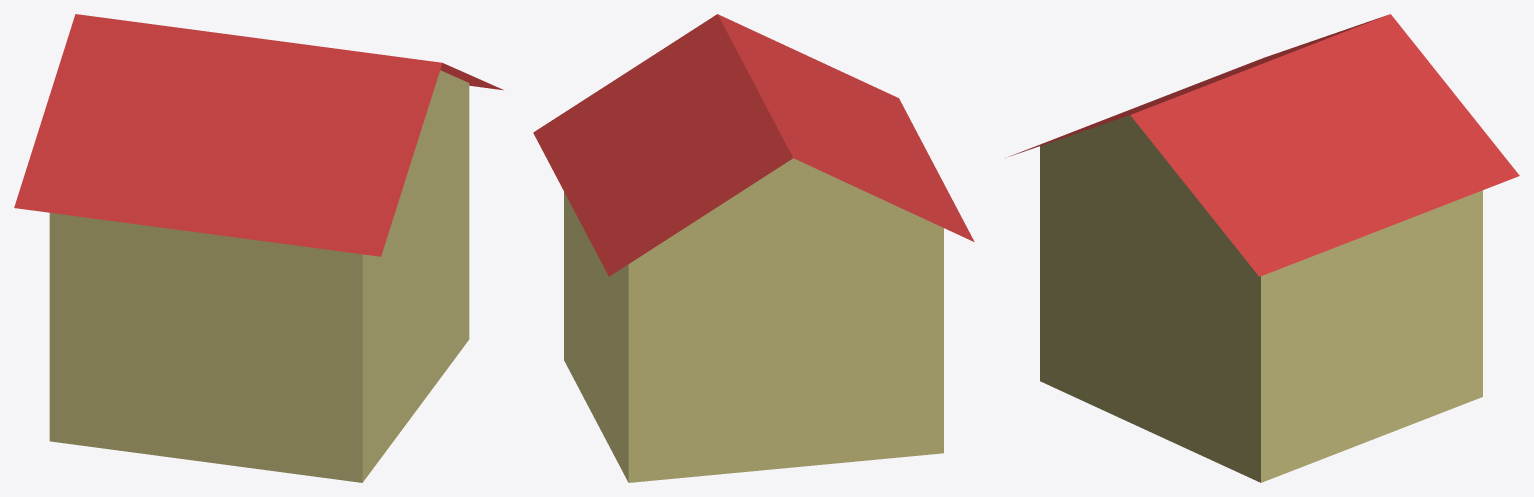
The picture shows the model from 3 angles, left to right: view 1: azimuth 30°, elevation 25°; view 2: azimuth 150°, elevation 25°; view 3: azimuth 270°, elevation 25°; orthographic projection. The views are drawn at different scales.
Bounding box in the file's own units: 14.88 × 14.84 × 10.27.
